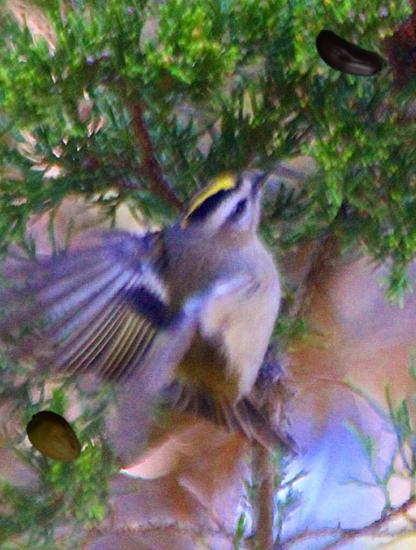Eggplant: (309, 16, 394, 101)
Papaya: (22, 406, 86, 470)
